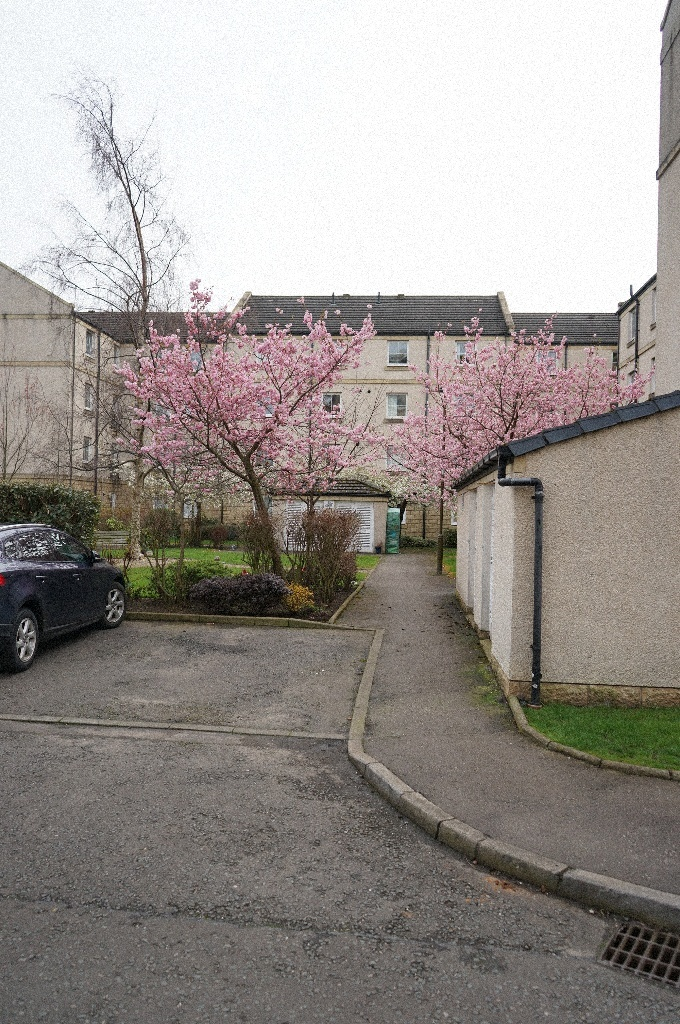Tree: (29, 53, 228, 569), (115, 301, 385, 578), (392, 311, 642, 506)
